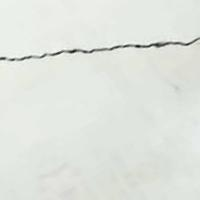crack: (0, 29, 199, 72)
